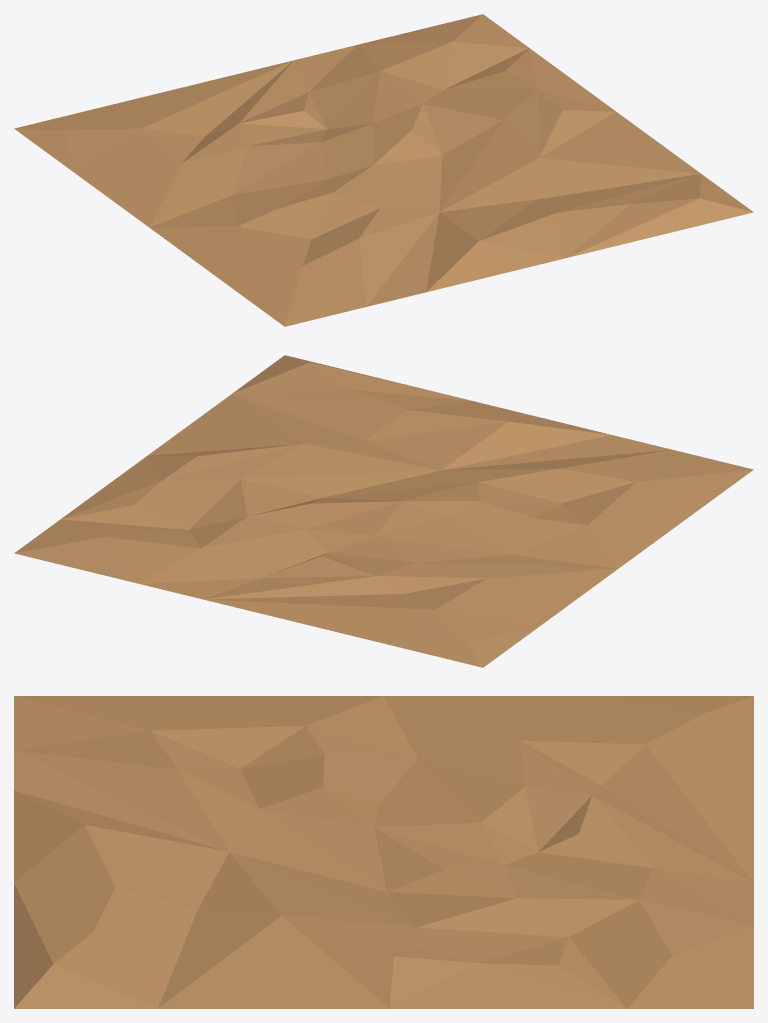
Rendered from TB_D_Env_Tile_Sand_A.FBX.
3 views of the same model, one above another, from view 1: azimuth 30°, elevation 25°; view 2: azimuth 150°, elevation 25°; view 3: azimuth 270°, elevation 25° (orthographic). The views are drawn at different scales.
Parts seen in each view (by area): view 1: TB_D_Env_Tile_Sand_A; view 2: TB_D_Env_Tile_Sand_A; view 3: TB_D_Env_Tile_Sand_A.
Boxes of the visible parts, x1,y1,x2,y2 form: TB_D_Env_Tile_Sand_A: (14,14,753,326); TB_D_Env_Tile_Sand_A: (14,355,753,667); TB_D_Env_Tile_Sand_A: (14,696,753,1008).
Bounding box in the file's own units: 20 × 0.5404 × 20.
